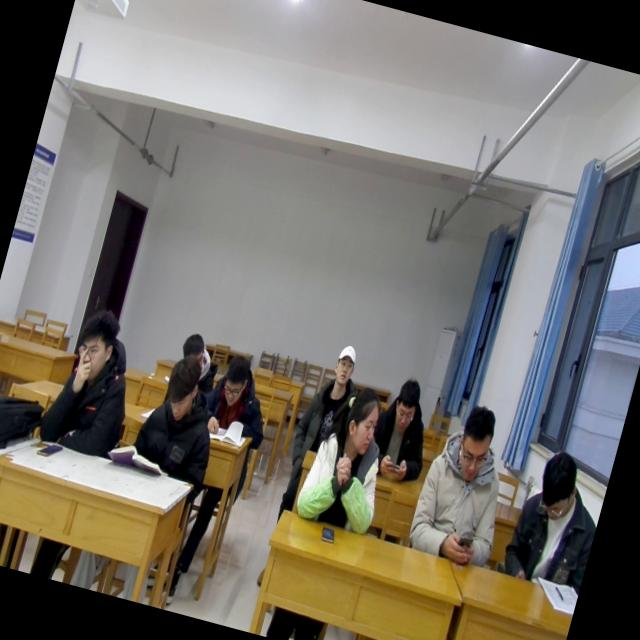down: (65, 300, 127, 392), (447, 397, 502, 487), (528, 445, 586, 526), (156, 348, 208, 426), (386, 372, 429, 438), (213, 351, 255, 413), (174, 326, 210, 370)
lookup: (326, 336, 361, 389)
sit: (406, 394, 528, 566), (32, 295, 152, 464), (292, 381, 404, 538), (502, 442, 612, 592), (125, 351, 230, 491), (290, 332, 370, 448), (363, 371, 442, 486), (194, 352, 283, 452), (162, 325, 215, 396)
